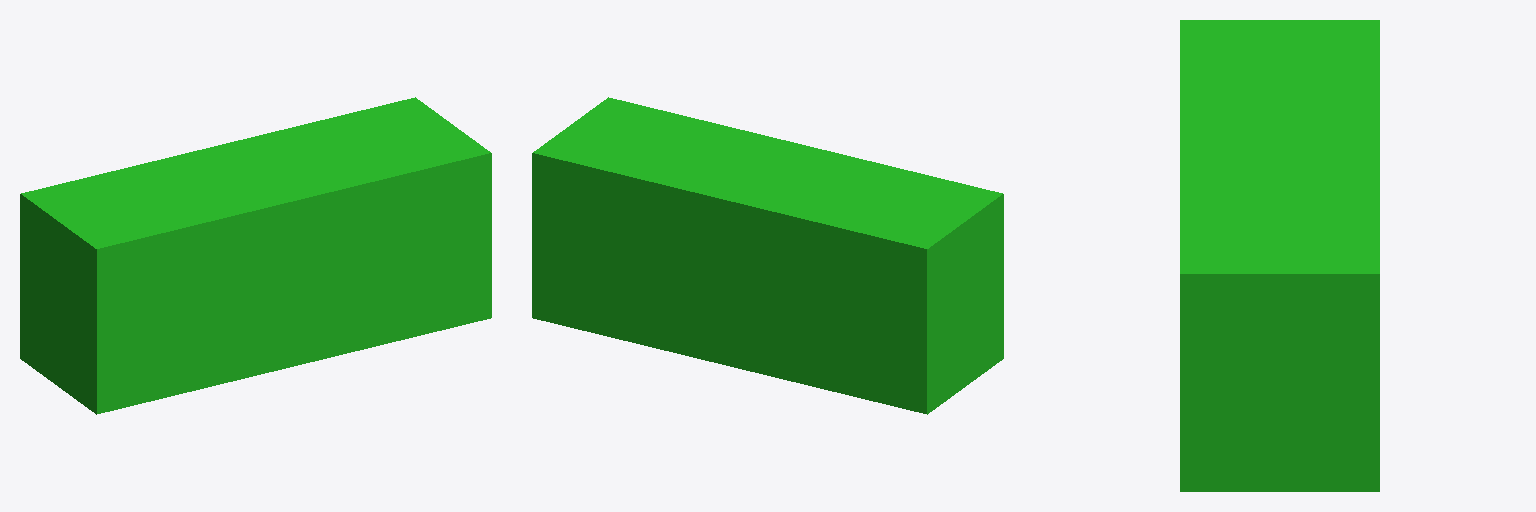
The robot description file, URDF, robot "Furniture 1":
<?xml version="1.0"?>
<robot name="Furniture 1">
    <!-- Colors -->
    <material name="red">
        <color rgba="0.196 0.804 0.196 1"/>
    </material>

    <!-- Furniture -->
    <link name="base_link">
        <visual>
            <geometry>
                <box size="1.5 0.5 0.6" />
                <origin rpy="0 0 0" xyz="0 0 0"/>
            </geometry>
            <material name="red"/>
        </visual>

        <collision>
             <geometry>
                <box size="1.5 0.5 0.6" />
                <origin rpy="0 0 0" xyz="0 0 0"/>
            </geometry>
        </collision>
        <inertial>
            <mass value="0"/>
            <inertia ixx="0" ixy="0" ixz="0" iyy="0" iyz="0" izz="0"/>
        </inertial>
    </link>
</robot>

--- Render facts (derived) ---
Views: 3 orthographic renders of the robot side by side, from view 1: azimuth 30°, elevation 25°; view 2: azimuth 150°, elevation 25°; view 3: azimuth 270°, elevation 25°.
Model Furniture 1 with 1 links and 0 joints (none), rooted at base_link, posed every joint at zero.
Links seen in each view (by area): view 1: base_link; view 2: base_link; view 3: base_link.
Boxes of the visible links, x1,y1,x2,y2 form: base_link: [20, 97, 491, 414]; base_link: [532, 97, 1003, 414]; base_link: [1180, 20, 1379, 491].
Bounding box of the posed robot: 1.5 × 0.5 × 0.6 m (x, y, z).
Geometry: primitives only (box / cylinder / sphere), no mesh files.